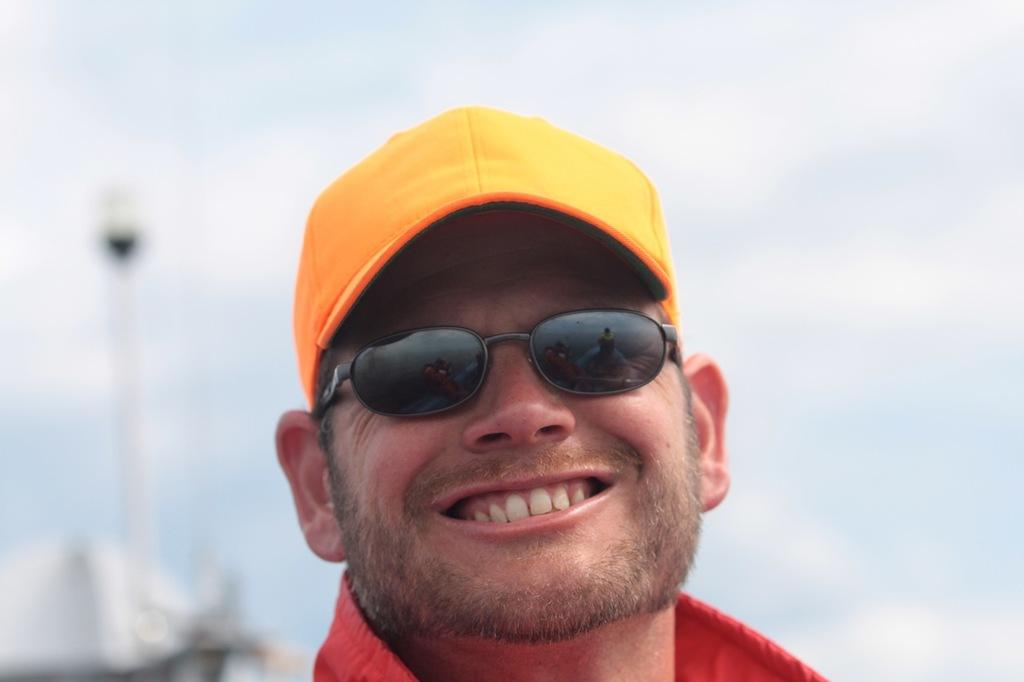Hat: (294, 104, 674, 401)
